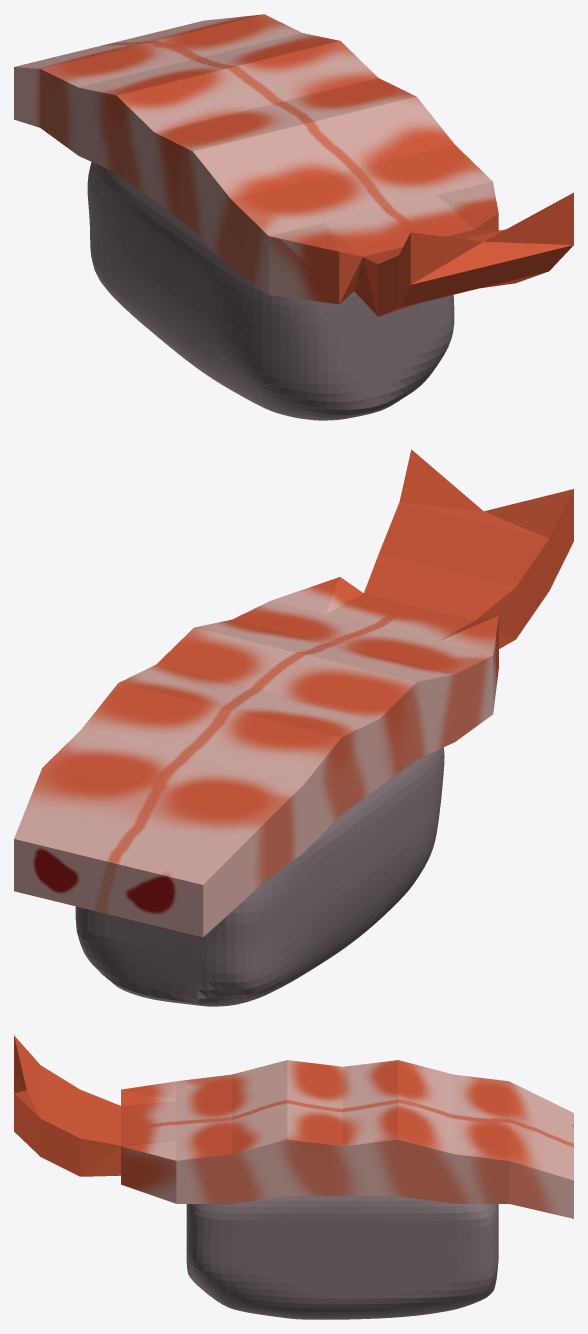
Rendered from enemy.obj.
3 renders of one model, top to bottom at view 1: azimuth 30°, elevation 25°; view 2: azimuth 150°, elevation 25°; view 3: azimuth 270°, elevation 25°, orthographic. The views are drawn at different scales.
Parts seen in each view (by area): view 1: 立方体; view 2: 立方体; view 3: 立方体.
Part boxes in pixels (left/top/right/bottom): 立方体: left=14, top=14, right=573, bottom=420; 立方体: left=14, top=449, right=573, bottom=1006; 立方体: left=14, top=1035, right=573, bottom=1319.
Bounding box in the file's own units: 0.8551 × 1.19 × 2.54.
